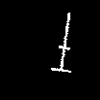double_crochet: (51, 13, 70, 71)
